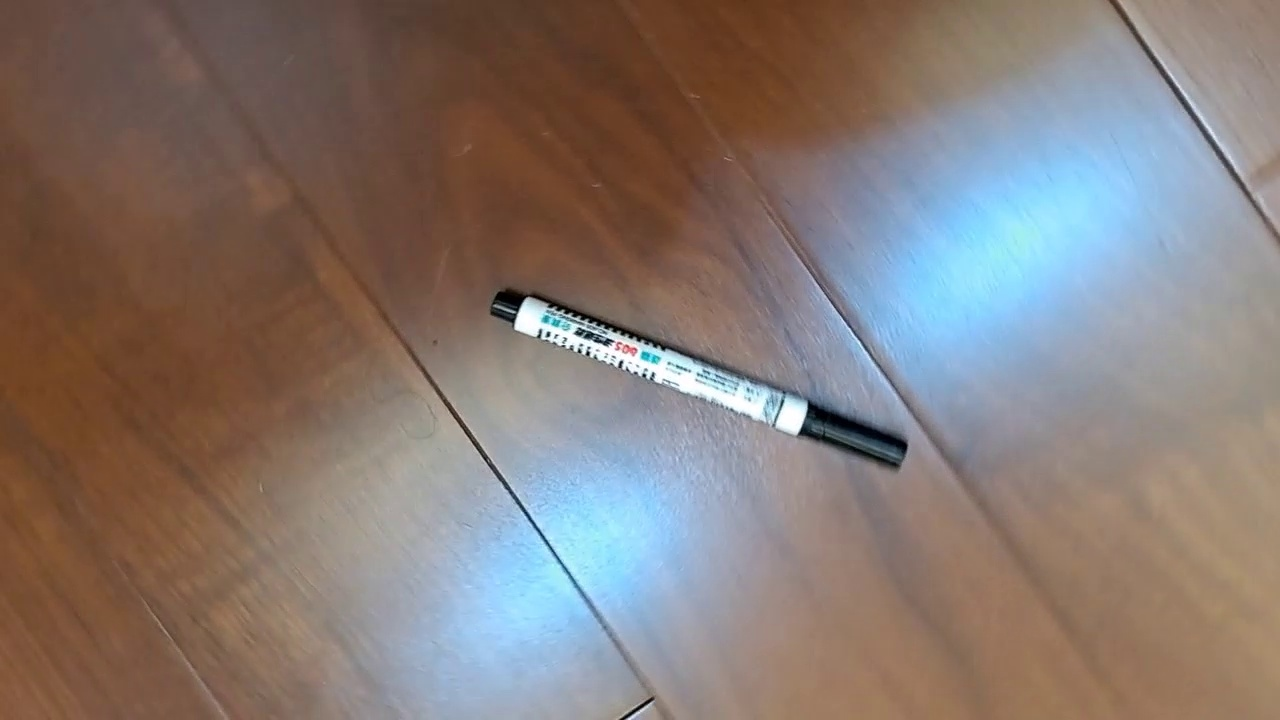pen: (489, 287, 909, 473)
